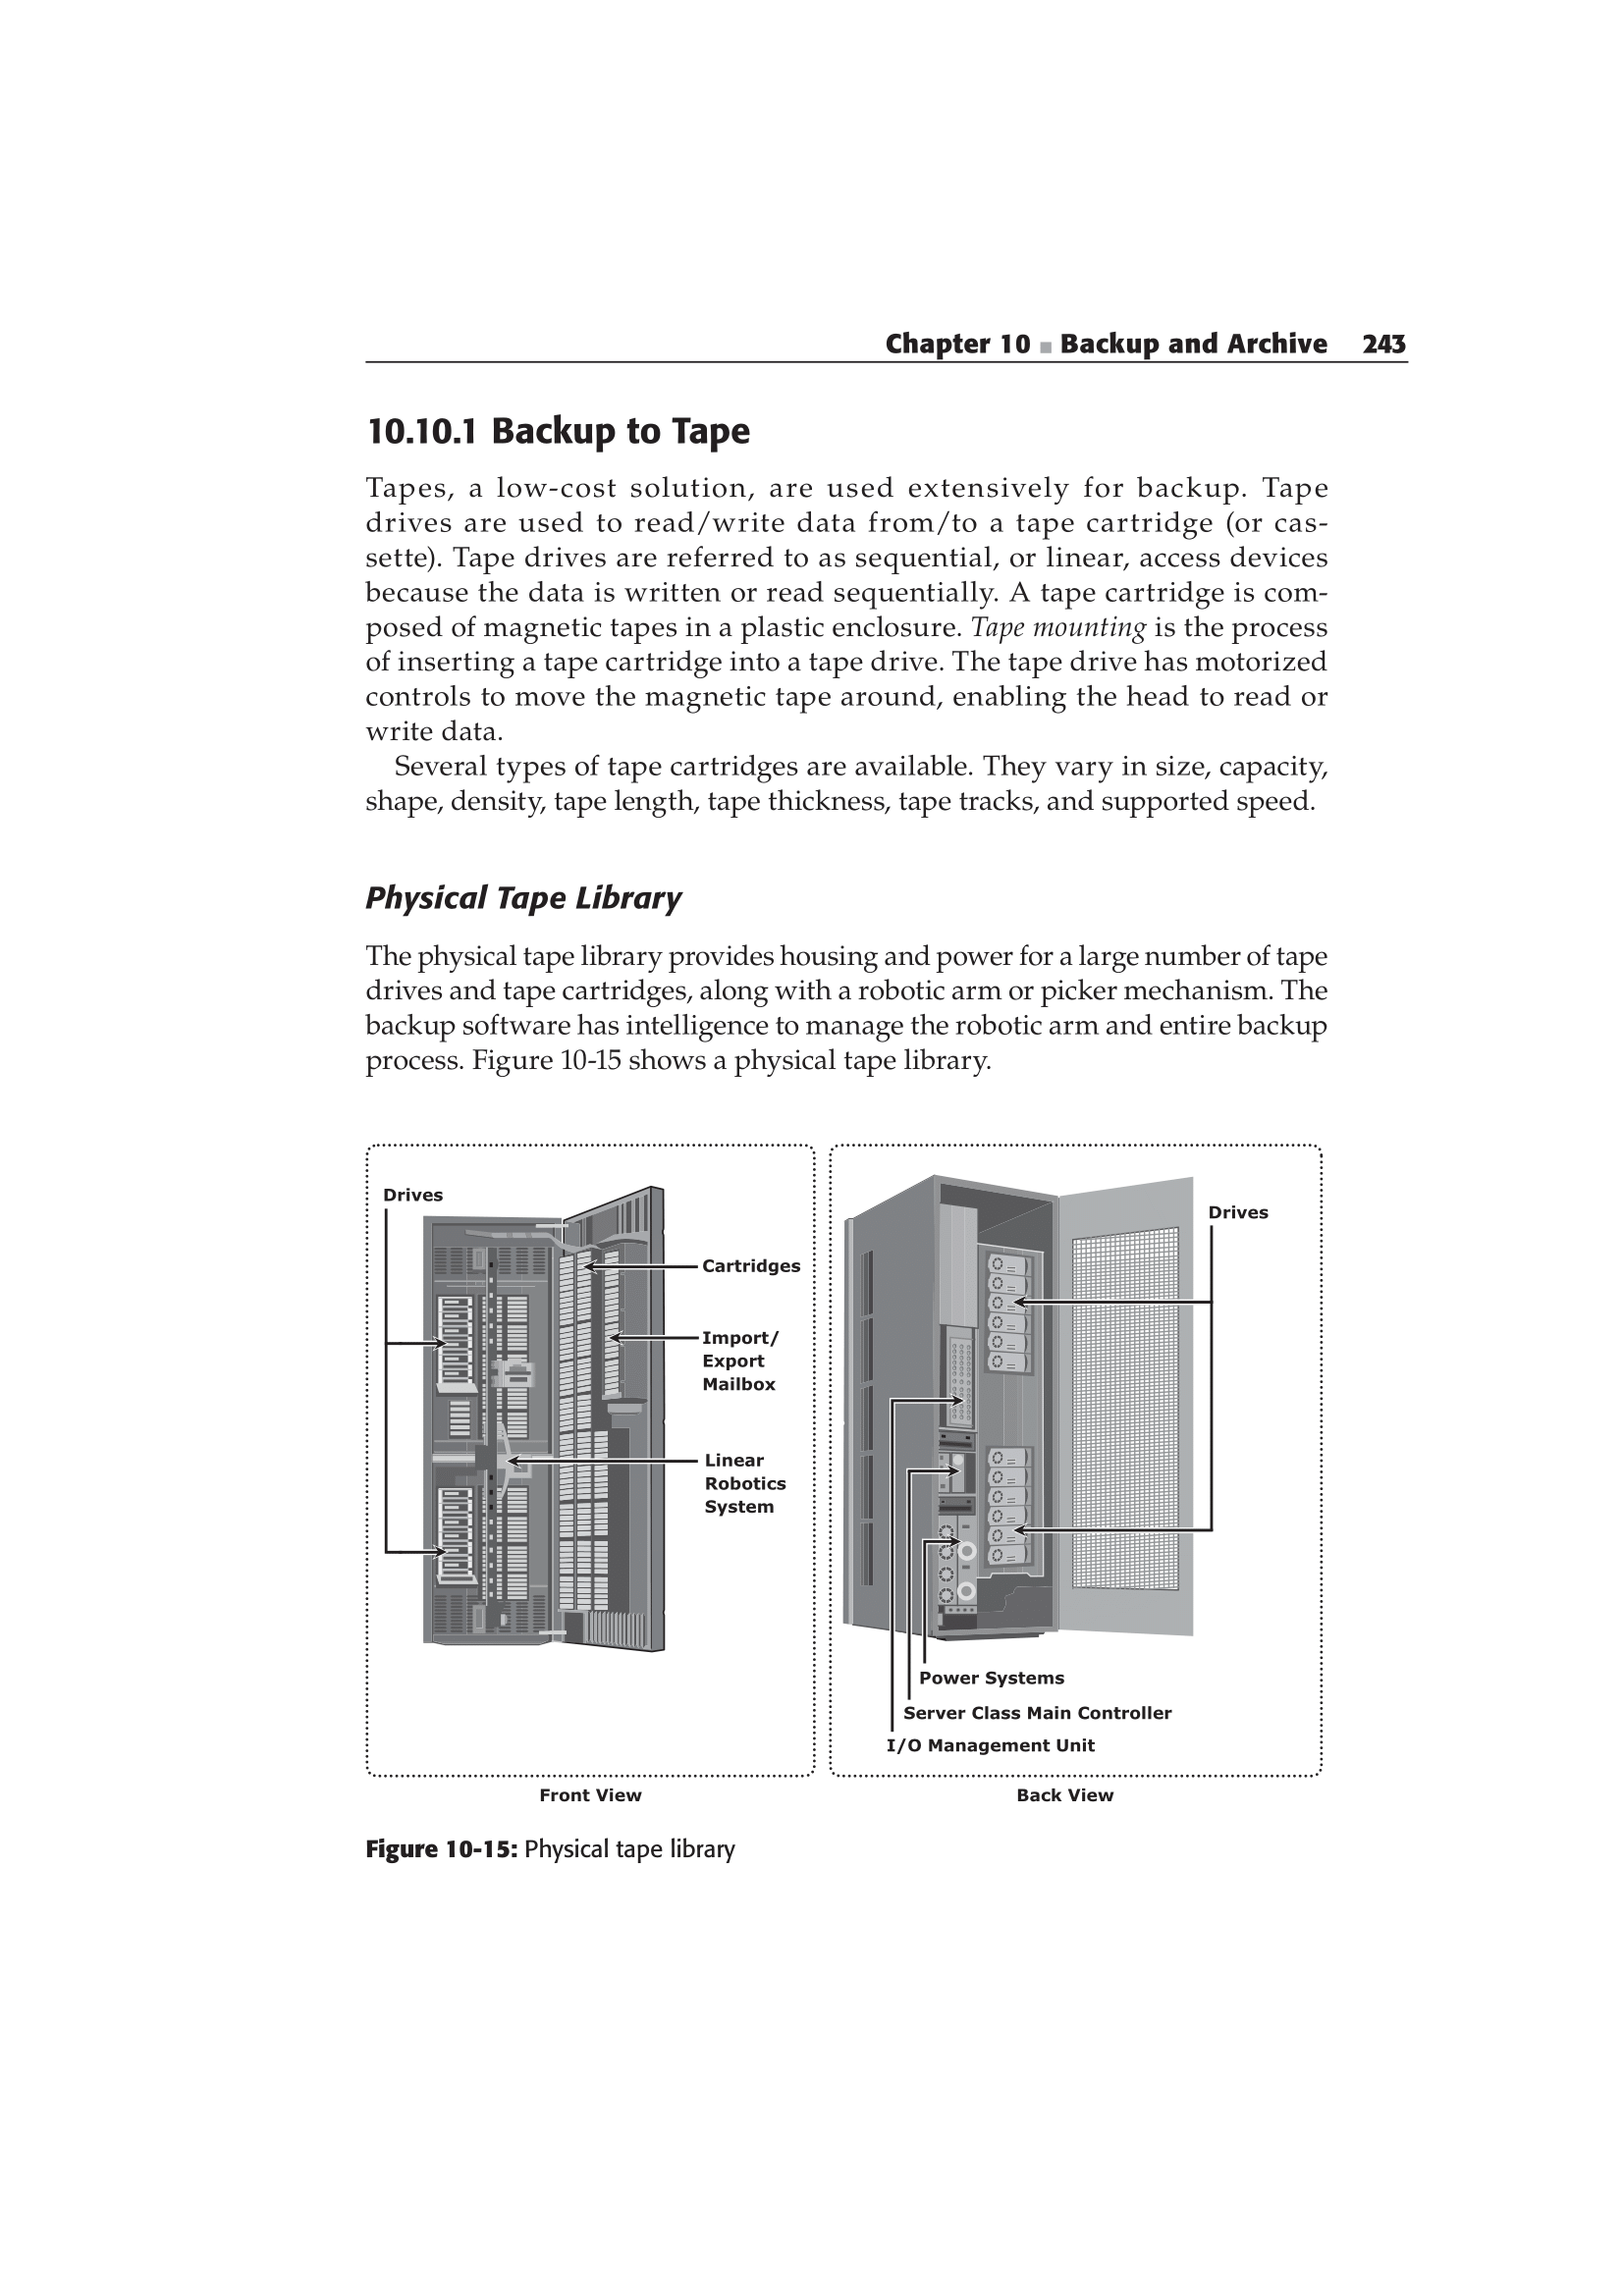Image: (348, 1155, 831, 1789), (840, 1146, 1305, 1794)
Paragraph: (343, 456, 1361, 744), (343, 930, 1365, 1073), (360, 753, 1384, 827), (848, 297, 1410, 365), (348, 1822, 734, 1891), (337, 402, 754, 451), (351, 862, 694, 918)
